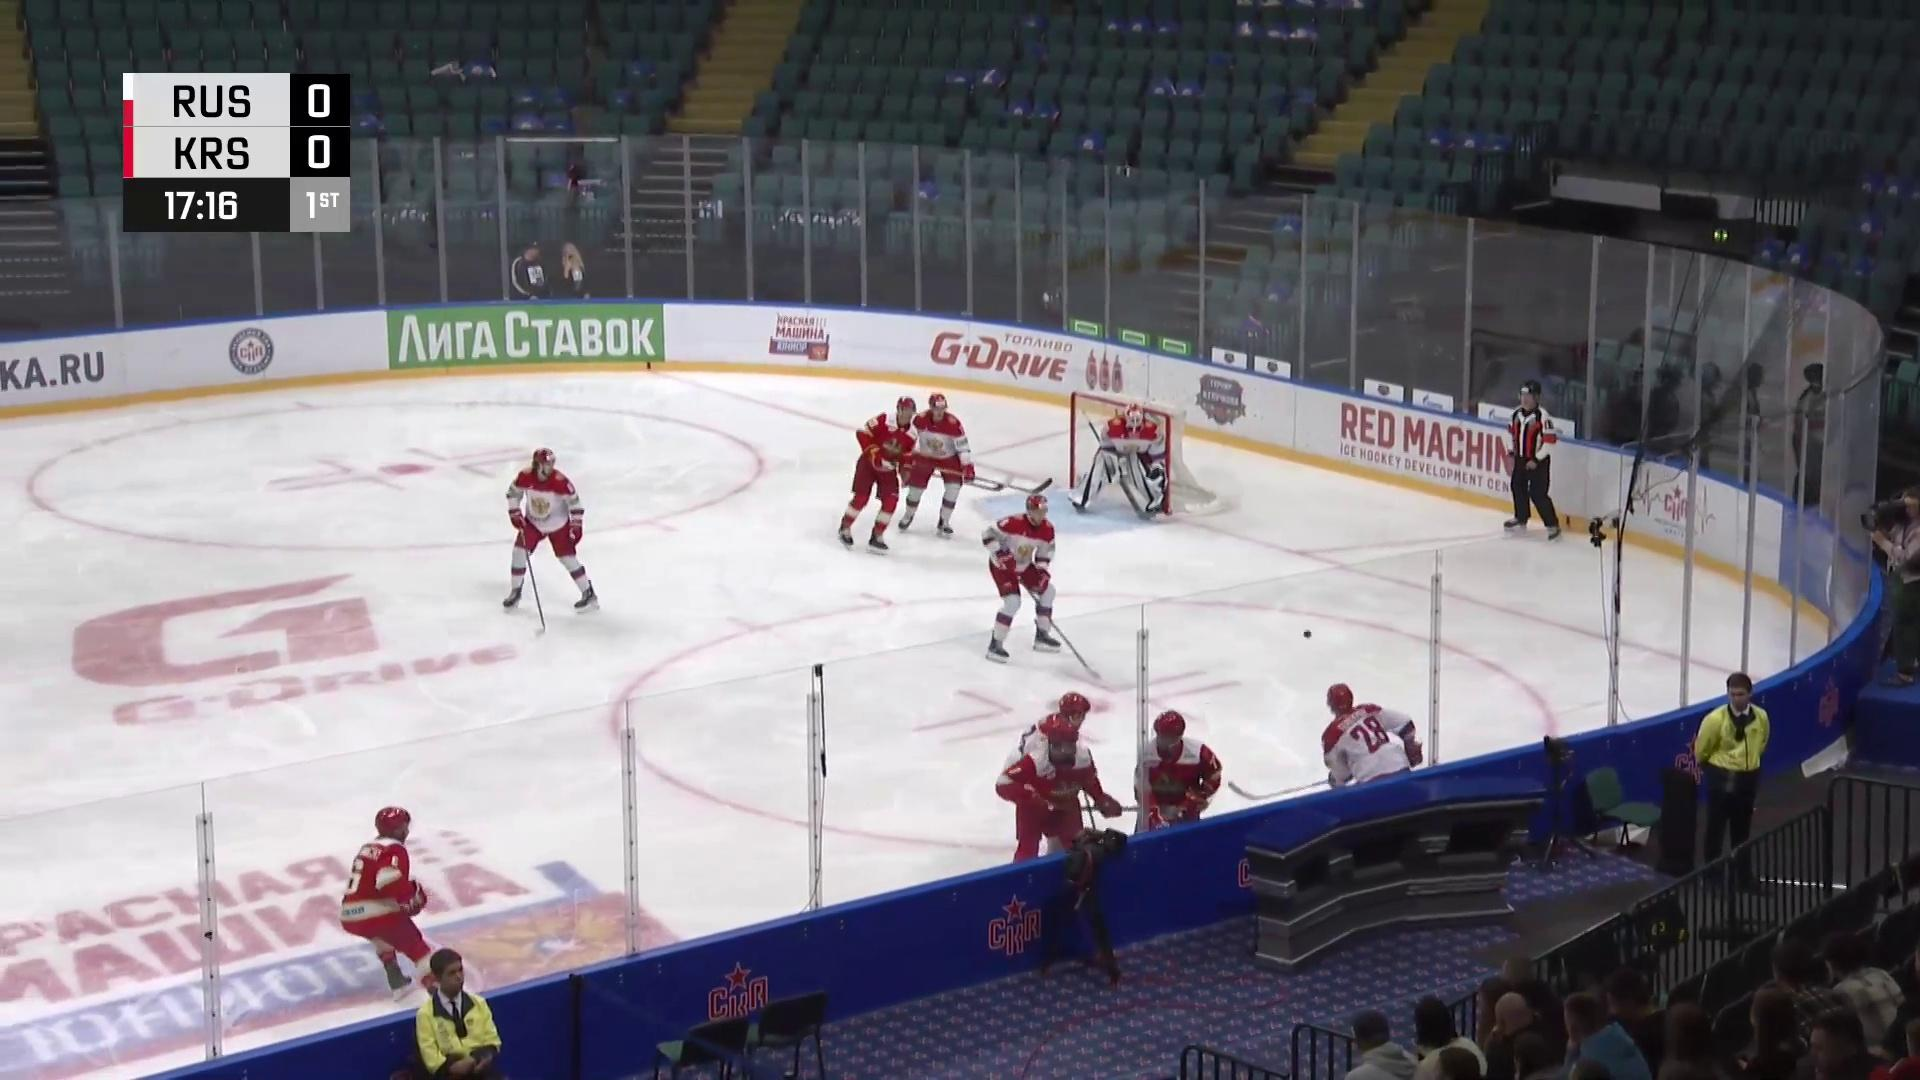ball: (1300, 629, 1315, 640)
